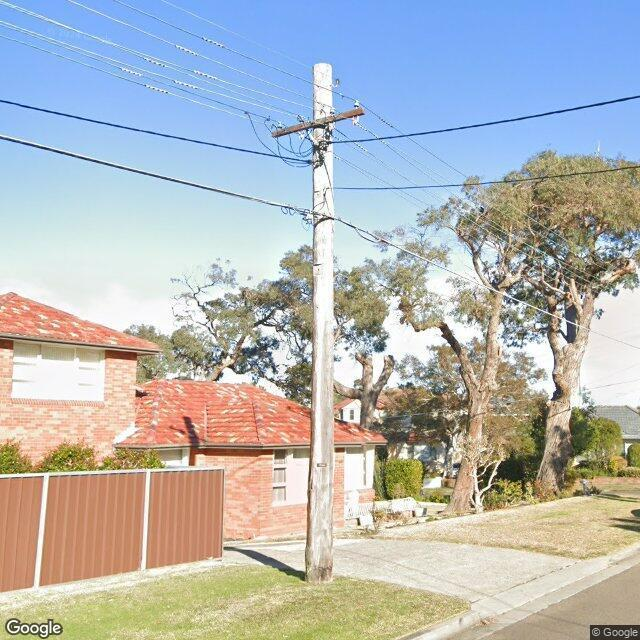crossarm: (270, 105, 366, 138)
timber-pole: (304, 62, 334, 584)
